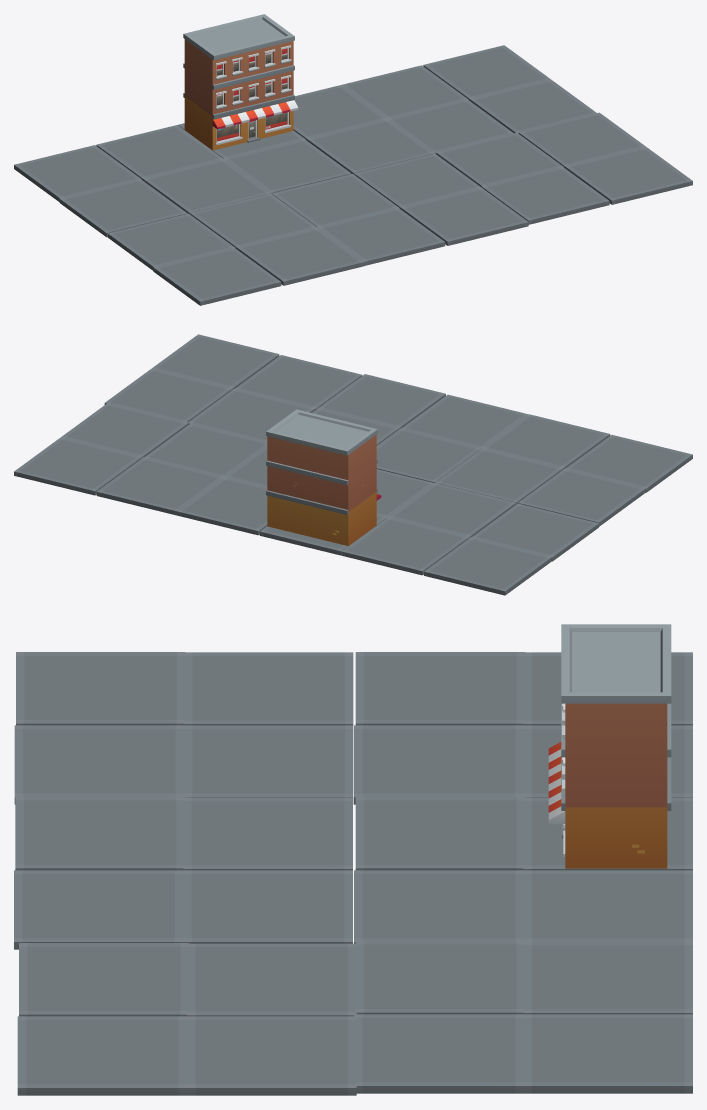
The model's file is city.glb.
The picture shows the model from 3 angles, top to bottom: view 1: azimuth 30°, elevation 25°; view 2: azimuth 150°, elevation 25°; view 3: azimuth 270°, elevation 25°; orthographic projection. The views are drawn at different scales.
Visible parts, largest first — view 1: building_E_withoutBase, base.019, base.005, base.022, base.018, base.023, base.004, base.012, base.016, base.015, base.002, base.013 (+13 smaller); view 2: building_E_withoutBase, base.015, base.014, base.010, base.011, base.016, base.012, base.019, base.005, base.009, base.022, base.018 (+13 smaller); view 3: building_E_withoutBase, base.022, base.010, base.021, base.009, base.016, base.004, base.003, base.006, base.008, base.012, base.023 (+13 smaller).
Boxes of the visible parts, x1,y1,x2,y2 form: building_E_withoutBase: (183,14,298,150); base.019: (153,247,281,305); base.005: (401,188,528,245); base.022: (565,147,692,204); base.018: (237,227,364,285); base.023: (481,167,609,224); base.004: (318,208,445,265); base.012: (59,179,187,237); base.016: (107,213,235,270); base.015: (14,145,141,201); base.002: (307,119,434,174); base.013: (143,159,270,213); building_E_withoutBase: (266,409,381,545); base.015: (424,537,551,595); base.014: (341,517,469,575); base.010: (14,437,141,495); base.011: (96,457,223,515); base.016: (518,468,645,526); base.012: (472,503,598,561); base.019: (565,435,692,492); base.005: (318,374,445,428); base.009: (61,403,188,457); base.022: (152,334,279,389); base.018: (482,414,610,469); building_E_withoutBase: (548,624,671,868); base.022: (17,1016,187,1095); base.010: (523,1014,692,1093); base.021: (187,1016,356,1095); base.009: (354,1014,523,1093); base.016: (184,652,353,725); base.004: (15,797,184,870); base.003: (355,797,524,870); base.006: (183,870,352,943); base.008: (355,941,524,1014); base.012: (355,652,524,725); base.023: (19,943,188,1016).
Size of the model in its own units: 12.18 by 2.35 by 8.01.
Materials: 25 (25 with a texture image).
